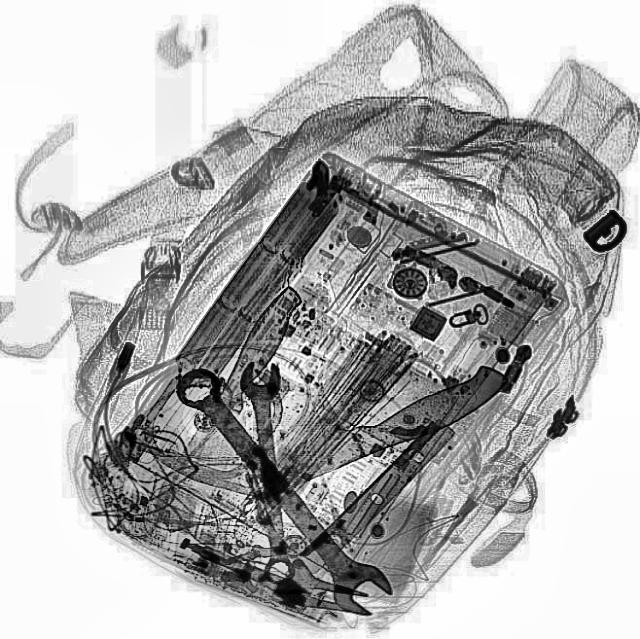Knife: (126, 314, 514, 538)
Wrench: (157, 355, 399, 626), (236, 359, 298, 581)
